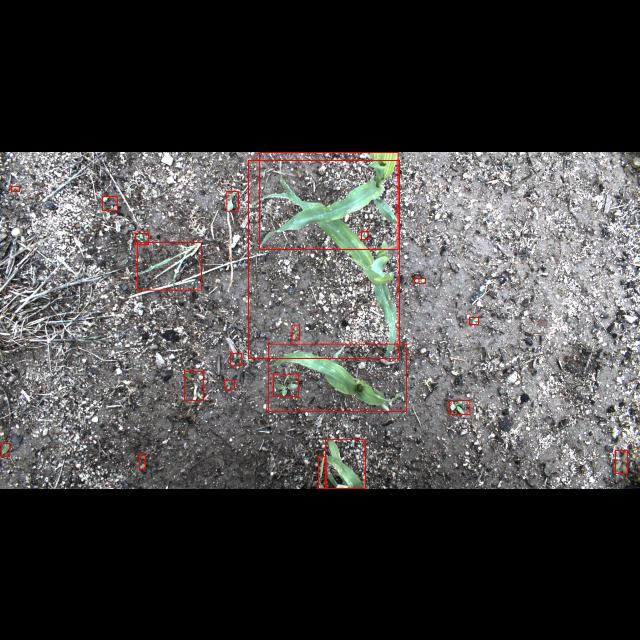crop: (248, 160, 399, 358), (260, 152, 398, 248), (268, 343, 407, 411), (325, 439, 365, 488), (318, 456, 326, 488)
weed: (137, 241, 201, 289), (184, 370, 203, 400), (274, 374, 298, 396), (450, 400, 470, 414), (615, 451, 627, 474), (227, 190, 239, 210), (102, 196, 118, 210), (230, 352, 242, 366), (136, 232, 148, 244), (0, 443, 10, 457), (292, 325, 300, 339), (224, 380, 234, 390), (139, 455, 145, 469), (469, 316, 479, 324), (414, 277, 426, 283), (362, 230, 368, 240), (11, 185, 19, 191)
